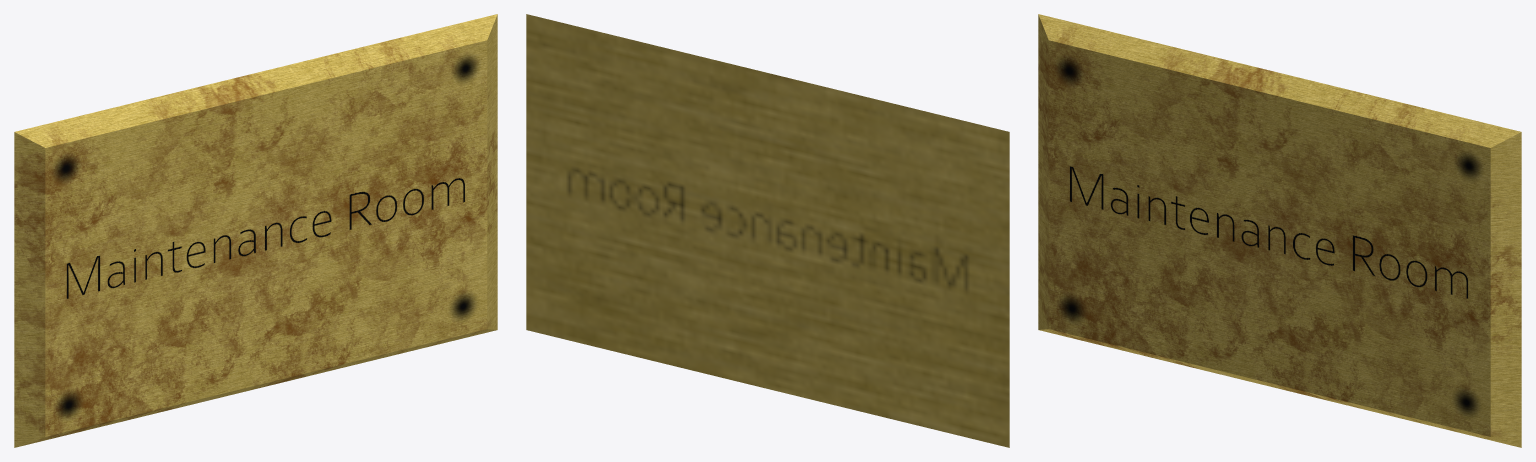
Rendered from Maintenance.fbx.
3 views of the same model, side by side, from view 1: azimuth 30°, elevation 25°; view 2: azimuth 150°, elevation 25°; view 3: azimuth 330°, elevation 25° (orthographic).
Visible parts, largest first — view 1: Maintenance; view 2: Maintenance; view 3: Maintenance.
Boxes of the visible parts, box(x1,y1,x2,y2) form: Maintenance: box(14, 14, 497, 447); Maintenance: box(526, 14, 1009, 447); Maintenance: box(1038, 14, 1521, 447).
Bounding box in the file's own units: 80 × 49.98 × 2.97.
Materials: 1 (1 with a texture image).
